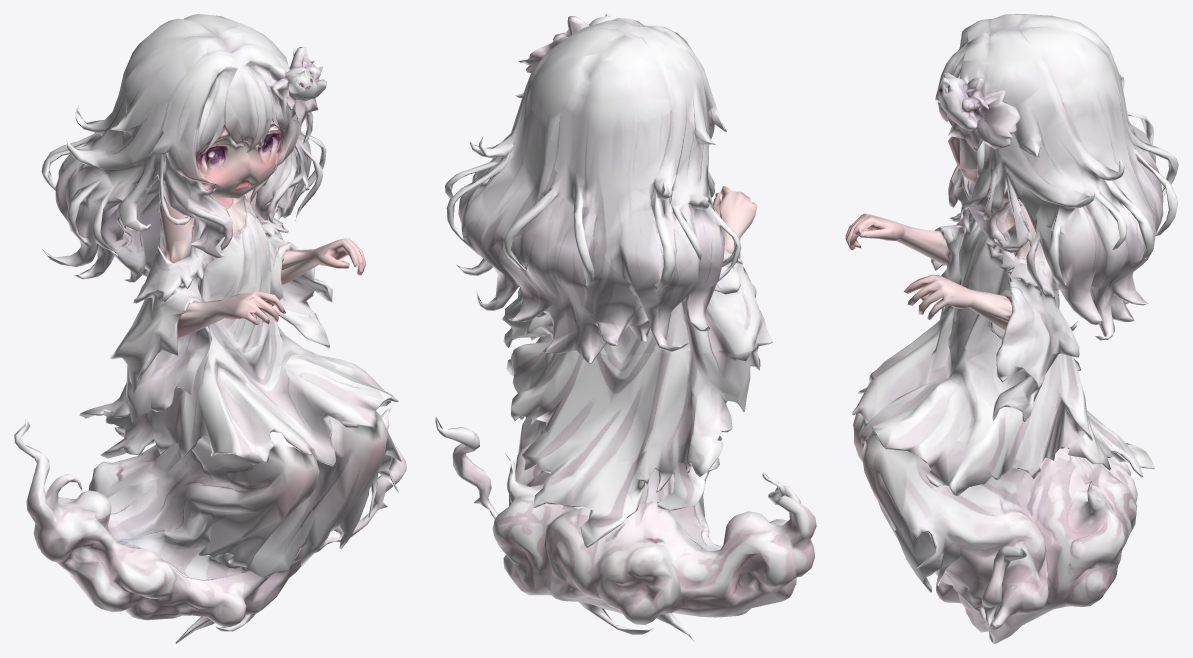
File: maiden.glb
3 views of the same model, side by side, from view 1: azimuth 30°, elevation 25°; view 2: azimuth 150°, elevation 25°; view 3: azimuth 270°, elevation 25° (orthographic). The views are drawn at different scales.
Visible parts, largest first — view 1: mesh_node; view 2: mesh_node; view 3: mesh_node.
Part boxes in pixels (x1,y1,x2,y2): mesh_node: [14, 14, 406, 643]; mesh_node: [435, 14, 816, 642]; mesh_node: [845, 14, 1178, 643].
Size of the model in its own units: 1.22 by 1.9 by 0.9354.
1 material, 1 textured.
